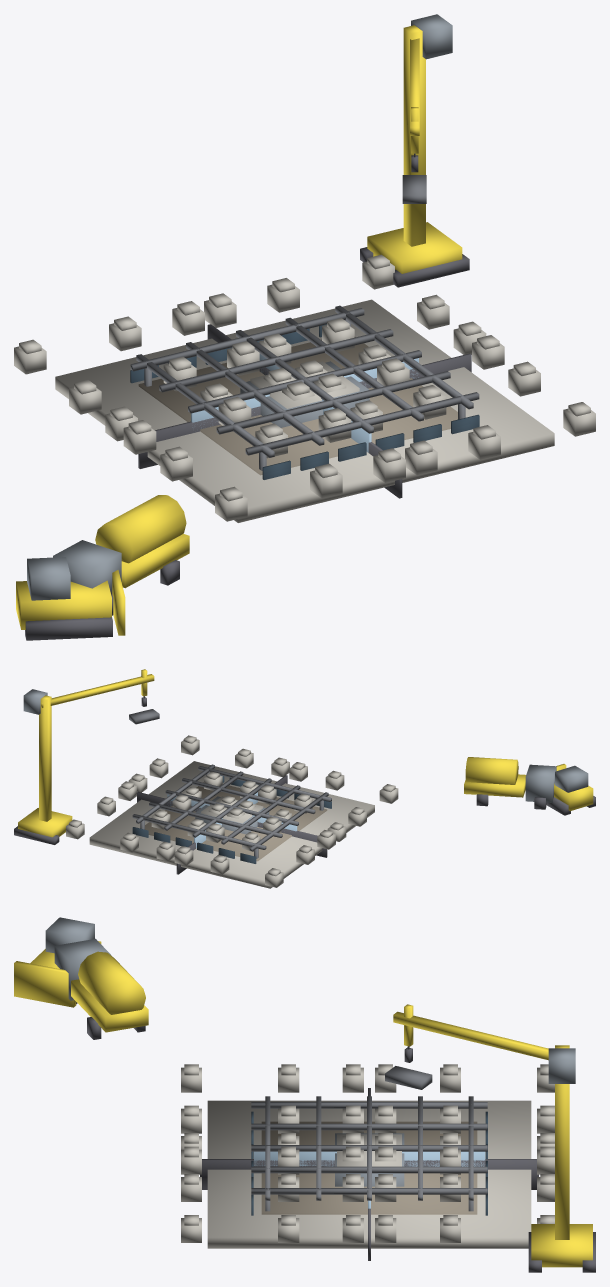
File: skyscraper.glb
The picture shows the model from 3 angles, top to bottom: view 1: azimuth 30°, elevation 25°; view 2: azimuth 150°, elevation 25°; view 3: azimuth 270°, elevation 25°; orthographic projection. The views are drawn at different scales.
Visible parts, largest first — view 1: ST_Footings, ST_Pad, ST_FrameFloor_1, ST_ExcavPit, ST_MixerDrum, ST_CraneTower, ST_DozerBody, ST_CraneBase, ST_Windows_F1, ST_Windows_F2, ST_MixerCab, ST_DozerCab (+8 smaller); view 2: ST_Footings, ST_Pad, ST_FrameFloor_1, ST_ExcavPit, ST_CraneTower, ST_MixerDrum, ST_MixerCab, ST_CraneBase, ST_MixerBed, ST_CraneBoom, ST_N_Windows_F1, ST_DozerCab (+8 smaller); view 3: ST_Pad, ST_Footings, ST_FrameFloor_1, ST_ExcavPit, ST_MixerDrum, ST_CraneTower, ST_CraneBase, ST_DozerBlade, ST_Fence_2, ST_CraneBoom, ST_MixerBed, ST_CWPanel_1_E (+7 smaller).
Part boxes in pixels (x1,y1,x2,y2): ST_Footings: (14,254,595,521); ST_Pad: (55,299,554,522); ST_FrameFloor_1: (130,305,479,470); ST_ExcavPit: (138,337,457,475); ST_MixerDrum: (95,495,186,563); ST_CraneTower: (403,25,425,246); ST_DozerBody: (16,580,111,629); ST_CraneBase: (367,222,462,273); ST_Windows_F1: (262,415,479,479); ST_Windows_F2: (263,415,479,479); ST_MixerCab: (53,540,121,593); ST_DozerCab: (27,557,70,600); ST_Footings: (66,735,398,887); ST_Pad: (89,761,374,888); ST_FrameFloor_1: (132,764,331,858); ST_ExcavPit: (145,782,327,861); ST_CraneTower: (39,695,51,821); ST_MixerDrum: (465,757,518,784); ST_MixerCab: (525,764,556,802); ST_CraneBase: (18,808,72,837); ST_MixerBed: (464,774,525,797); ST_CraneBoom: (41,674,154,707); ST_N_Windows_F1: (132,827,256,863); ST_DozerCab: (555,765,588,792); ST_Pad: (207,1100,531,1248); ST_Footings: (181,1064,554,1242); ST_FrameFloor_1: (251,1096,487,1211); ST_ExcavPit: (261,1121,477,1214); ST_MixerDrum: (78,951,145,1014); ST_CraneTower: (555,1045,569,1239); ST_CraneBase: (531,1224,592,1267); ST_DozerBlade: (14,961,76,1007); ST_Fence_2: (200,1159,538,1189); ST_CraneBoom: (393,1011,548,1060); ST_MixerBed: (71,979,148,1032); ST_CWPanel_1_E: (254,1151,485,1166).
Bounding box in the file's own units: 18.9 × 7.16 × 15.1.
